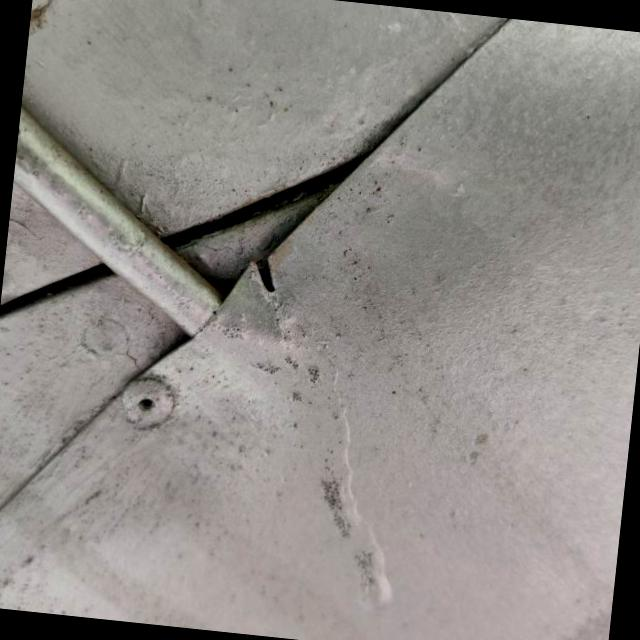crack: (228, 232, 304, 322)
